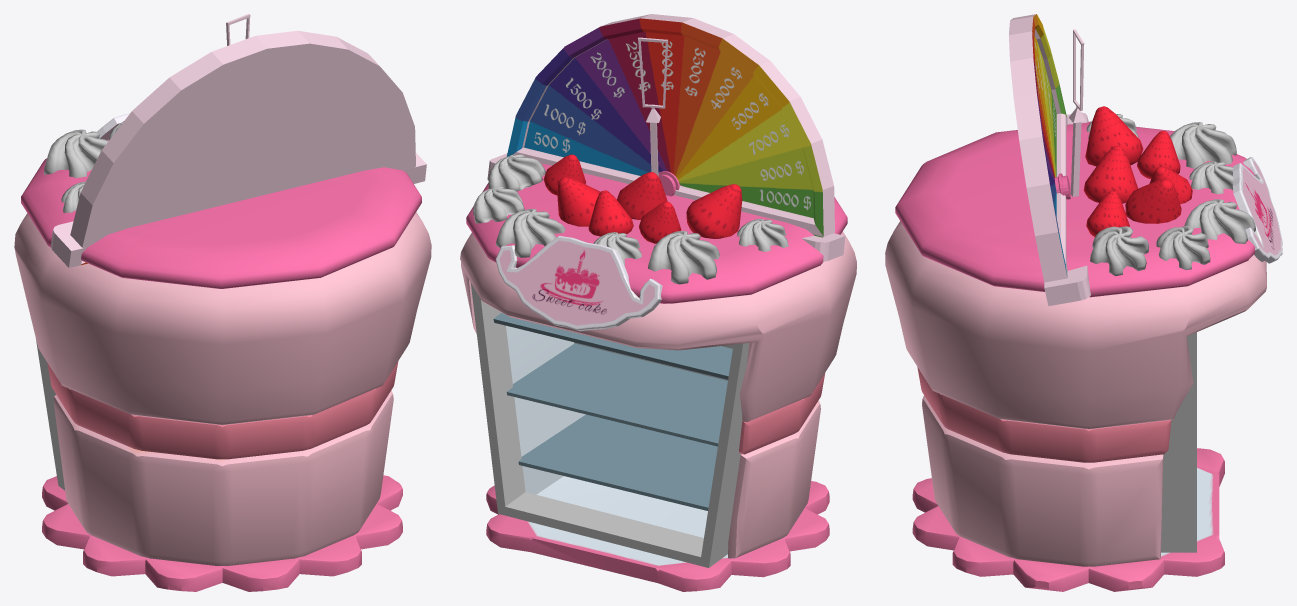
File: CAKE SON.fbx
The picture shows the model from 3 angles, left to right: view 1: azimuth 30°, elevation 25°; view 2: azimuth 150°, elevation 25°; view 3: azimuth 270°, elevation 25°; orthographic projection. The views are drawn at different scales.
Visible parts, largest first — view 1: yumru olan yer, Cylinder, yumru olan yer.001, Sphere.003, Cube; view 2: yumru olan yer, Cylinder, Cube, yumru olan yer.001, Plane.001, Sphere.003, Cylinder.010, Sphere.004, Cylinder.003, Sphere.001, Cylinder.002, Sphere.017 (+6 smaller); view 3: yumru olan yer, yumru olan yer.001, Cylinder, Cube, Plane.001, Sphere.003, Sphere.001, Cylinder.010, Sphere.004, Cylinder.003, Cylinder.002, Sphere.017 (+5 smaller).
Part boxes in pixels (x1,y1,x2,y2): yumru olan yer: (14,212,431,591); Cylinder: (50,30,426,267); yumru olan yer.001: (21,139,421,288); Sphere.003: (44,129,108,177); Cube: (36,339,64,490); yumru olan yer: (460,231,856,591); Cylinder: (487,14,845,261); Cube: (470,283,749,567); yumru olan yer.001: (466,163,847,303); Plane.001: (495,236,662,331); Sphere.003: (648,231,719,284); Cylinder.010: (686,184,742,238); Sphere.004: (496,208,565,257); Cylinder.003: (557,177,600,226); Sphere.001: (488,154,545,191); Cylinder.002: (617,172,667,219); Sphere.017: (473,187,524,223); yumru olan yer: (885,221,1266,591); yumru olan yer.001: (895,121,1255,297); Cylinder: (1009,14,1090,306); Cube: (1161,332,1196,552); Plane.001: (1232,157,1282,263); Sphere.003: (1170,122,1236,168); Sphere.001: (1090,226,1148,276); Cylinder.010: (1085,106,1143,166); Sphere.004: (1184,199,1255,243); Cylinder.003: (1125,179,1181,223); Cylinder.002: (1083,146,1138,203); Sphere.017: (1156,225,1210,269).
Bounding box in the file's own units: 22.78 × 30.09 × 22.14.
